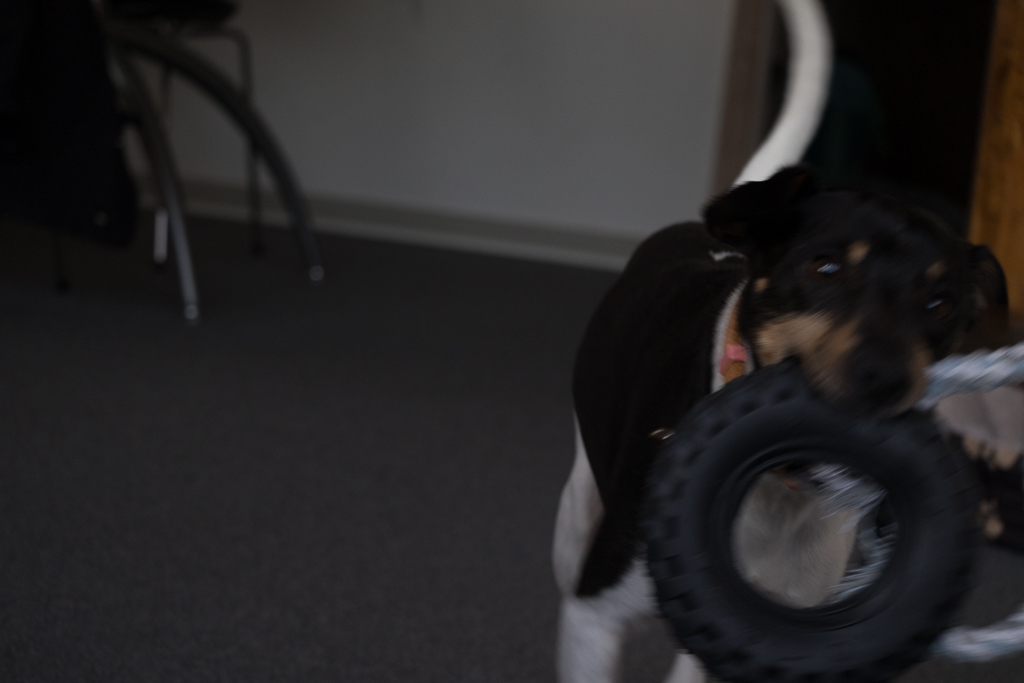Dog: (539, 0, 1024, 683)
